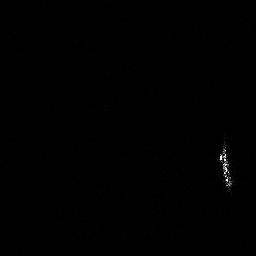ship: (215, 142, 234, 189)
